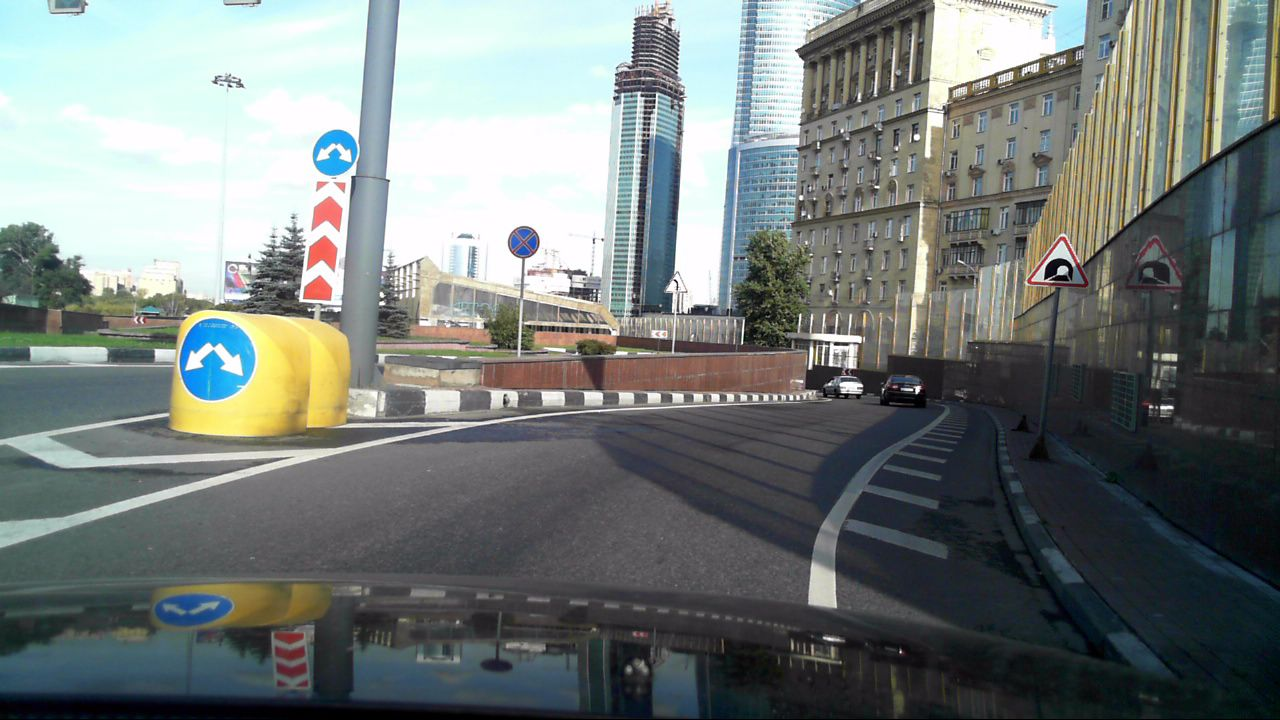No Parking: (506, 222, 544, 261)
